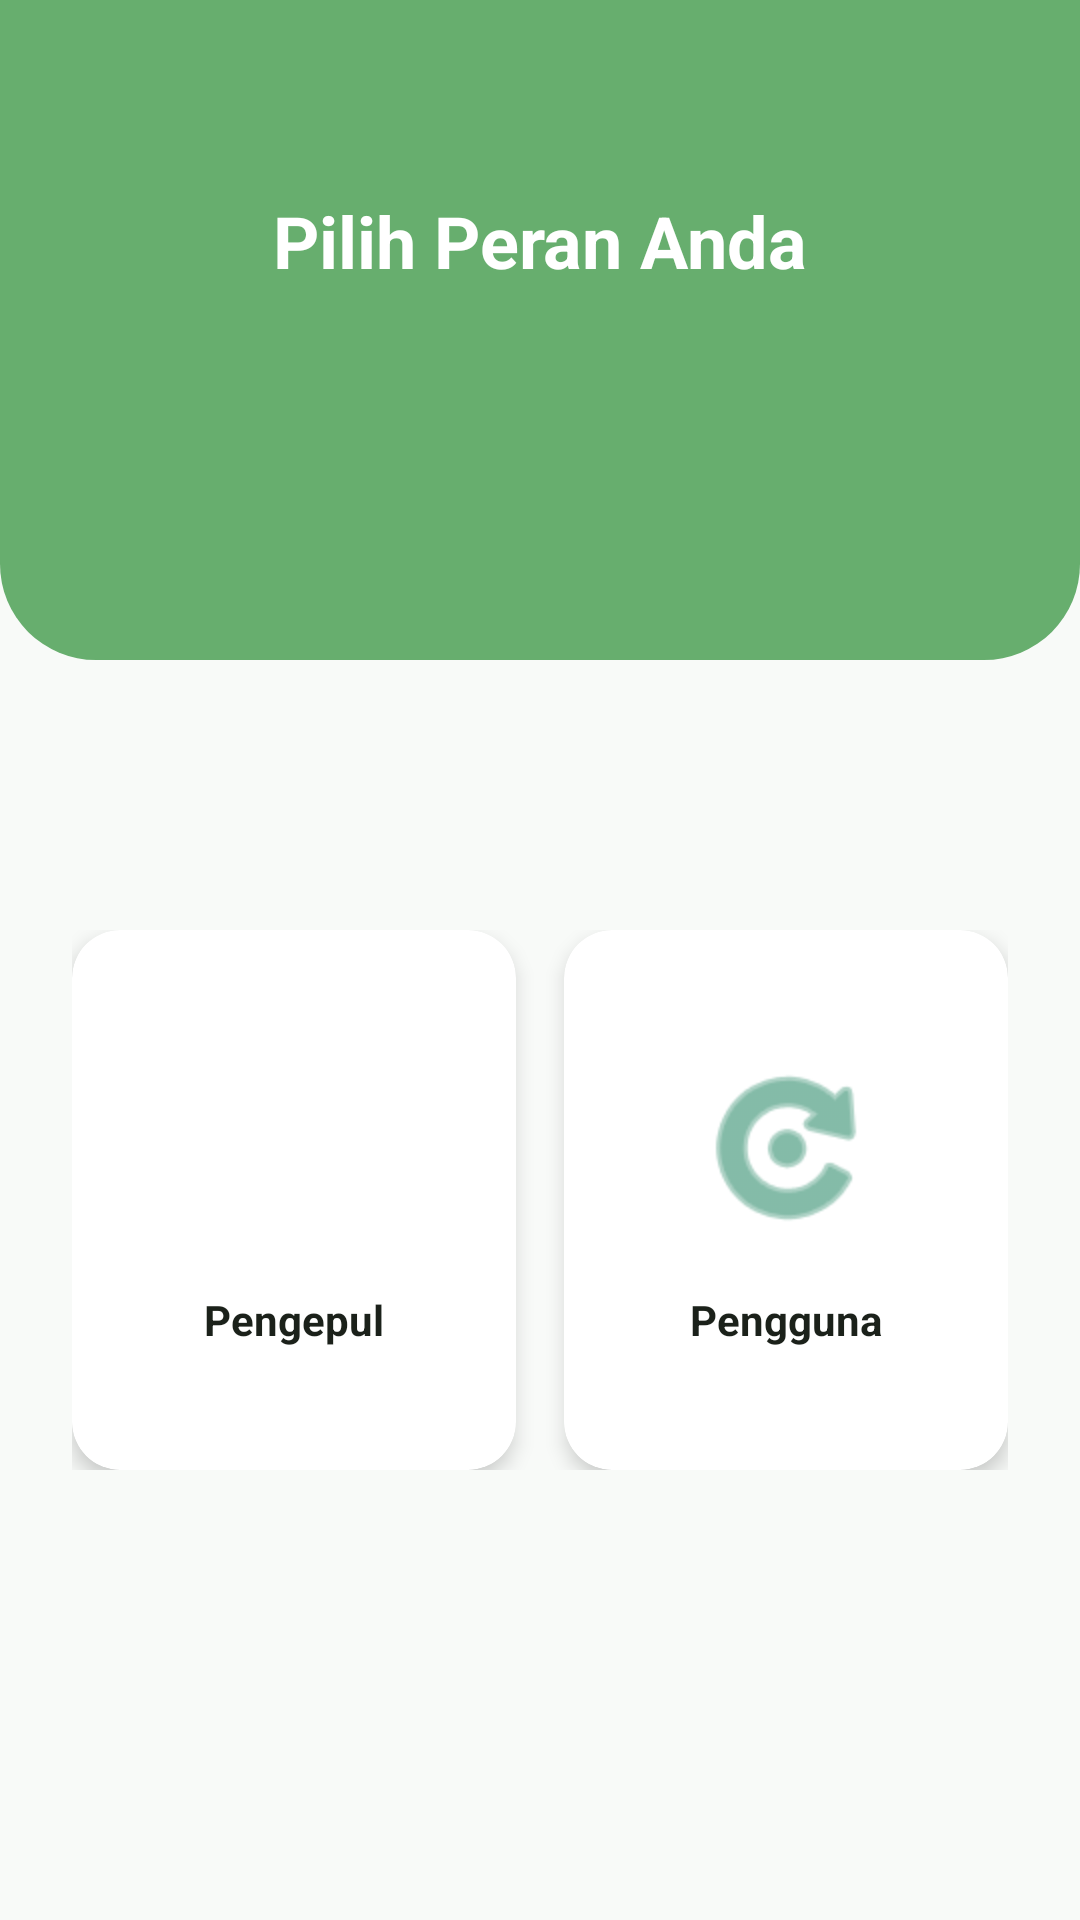

Icons on this 1080w x 1920h Android screen, each with its box as {"left": x1, "top": y1, "right": x2, "bottom": y2}:
rotate: {"left": 716, "top": 1076, "right": 856, "bottom": 1220}
